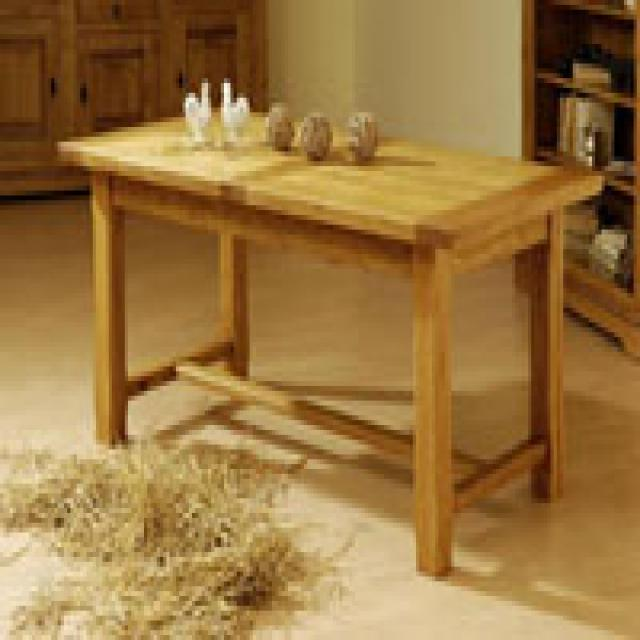table: (56, 102, 607, 583)
